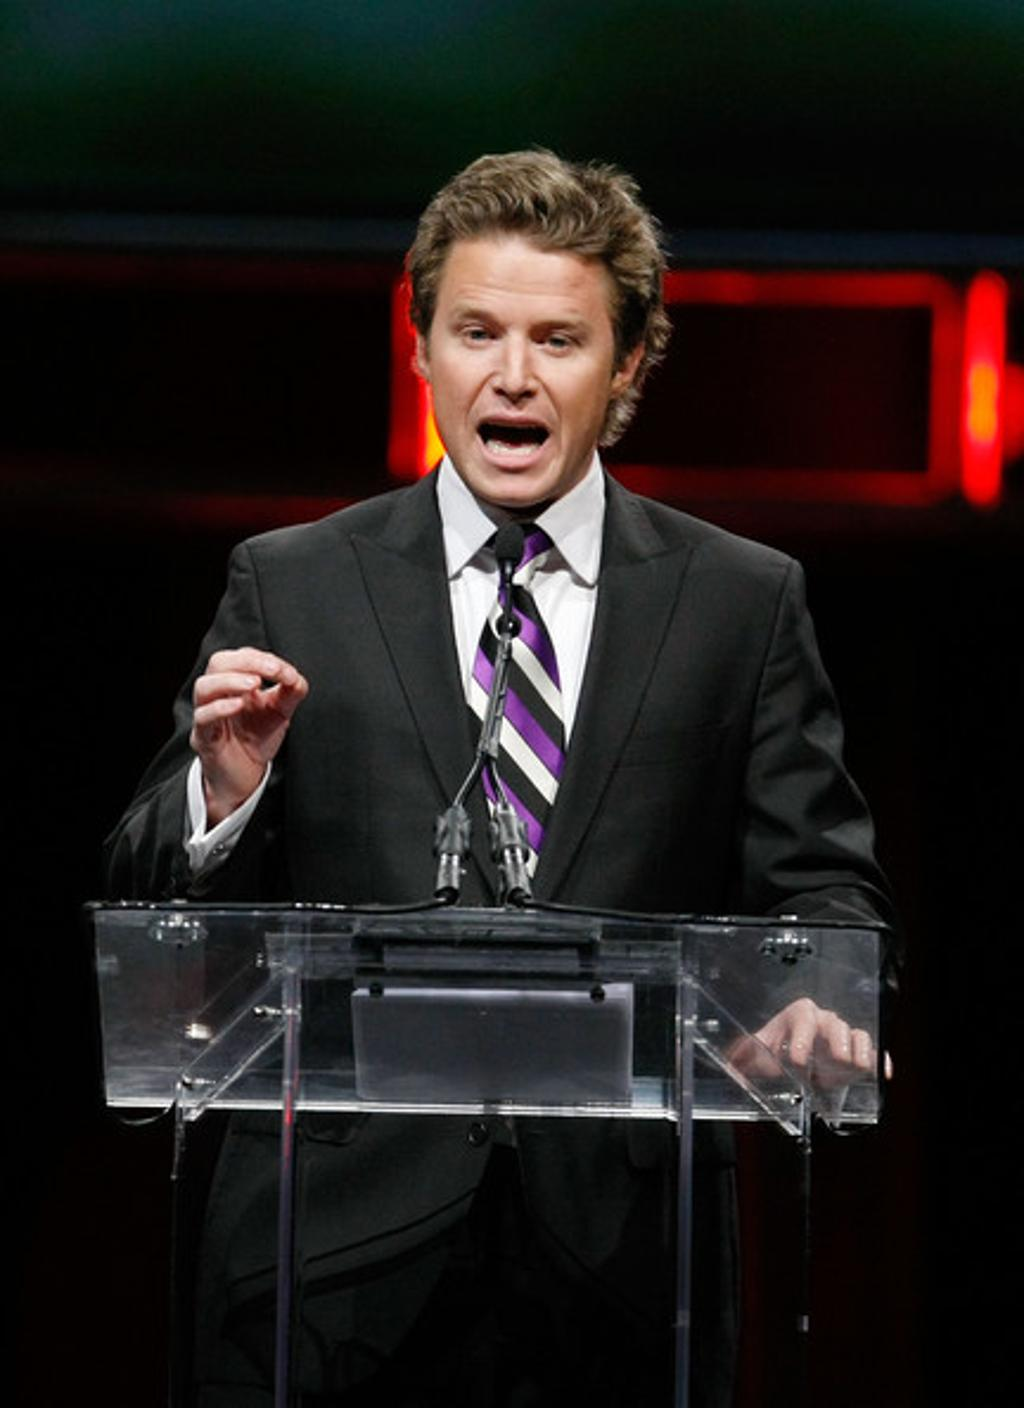face: (429, 234, 611, 509)
